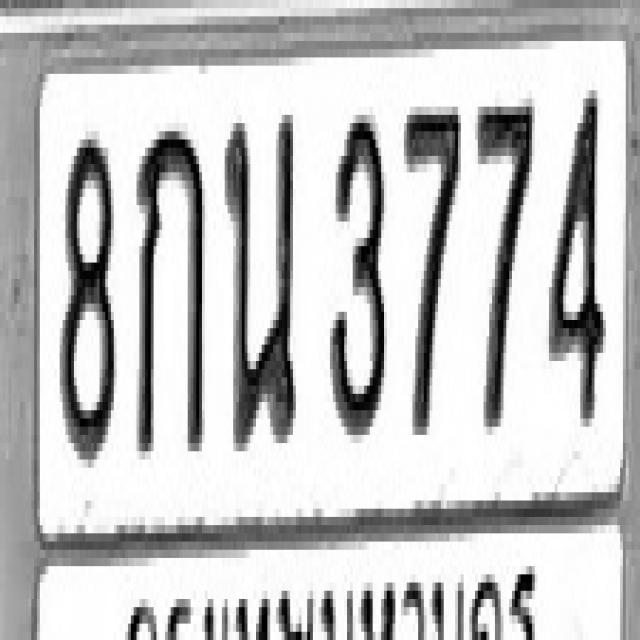10GorGai: (133, 123, 204, 451)
3: (328, 107, 386, 435)
34NorNu: (222, 107, 296, 443)
4: (548, 82, 604, 419)
7: (401, 98, 461, 435), (476, 99, 534, 426)
8: (58, 132, 115, 460)
